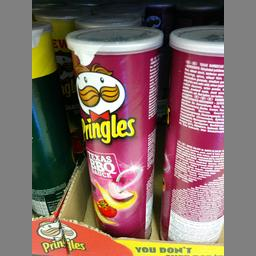chips: (65, 24, 162, 240), (156, 20, 222, 242)
